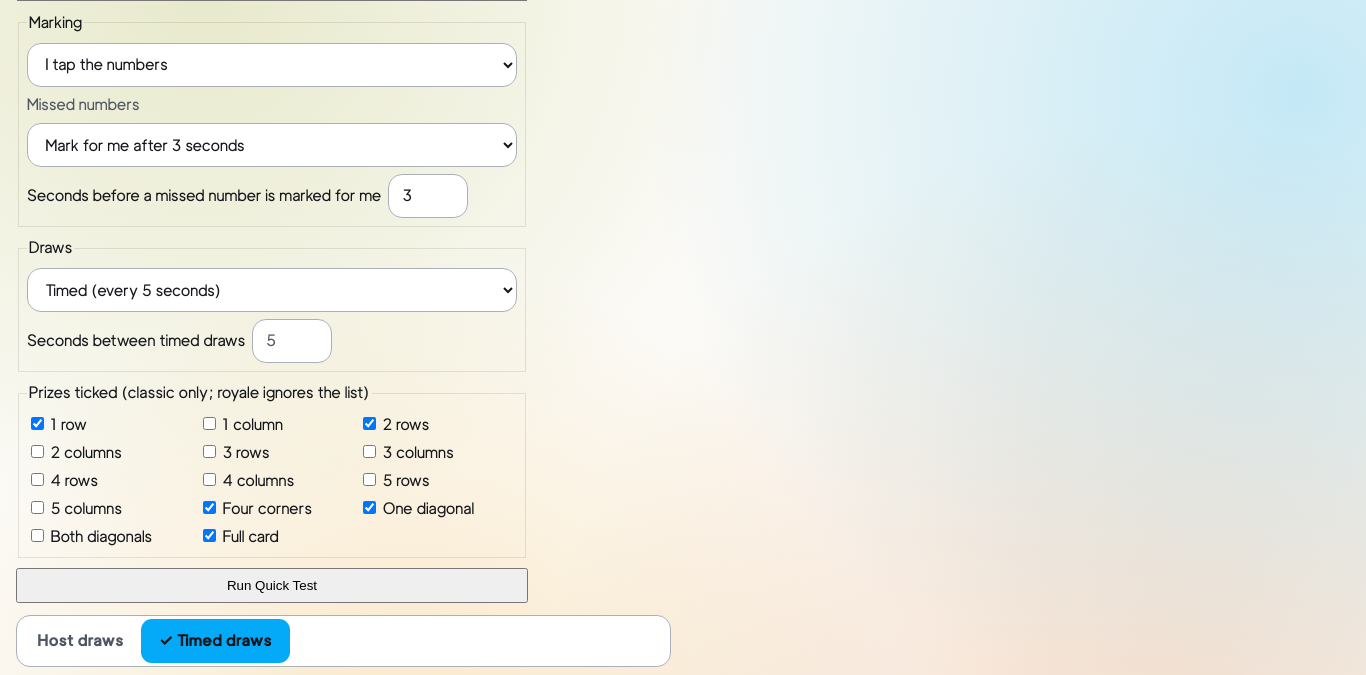
Scenario: a new run › shows the next run's first cut screen after the last run's was closed
(page scrolled)
Click the button with test id "start-run" at (272, 585), box [16,568,528,603]
Wait 2500 ms
(page scrolled)
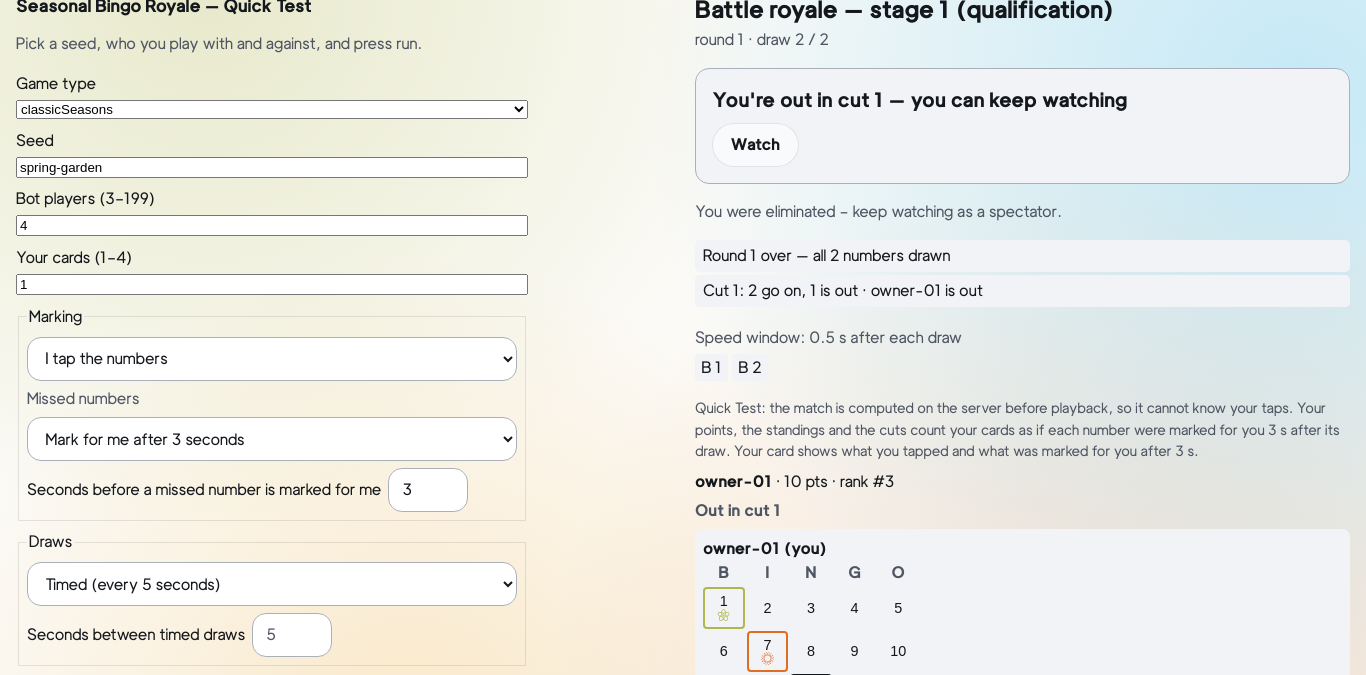
Click the button "Watch" at (755, 145), box [712,123,799,167]
(page scrolled)
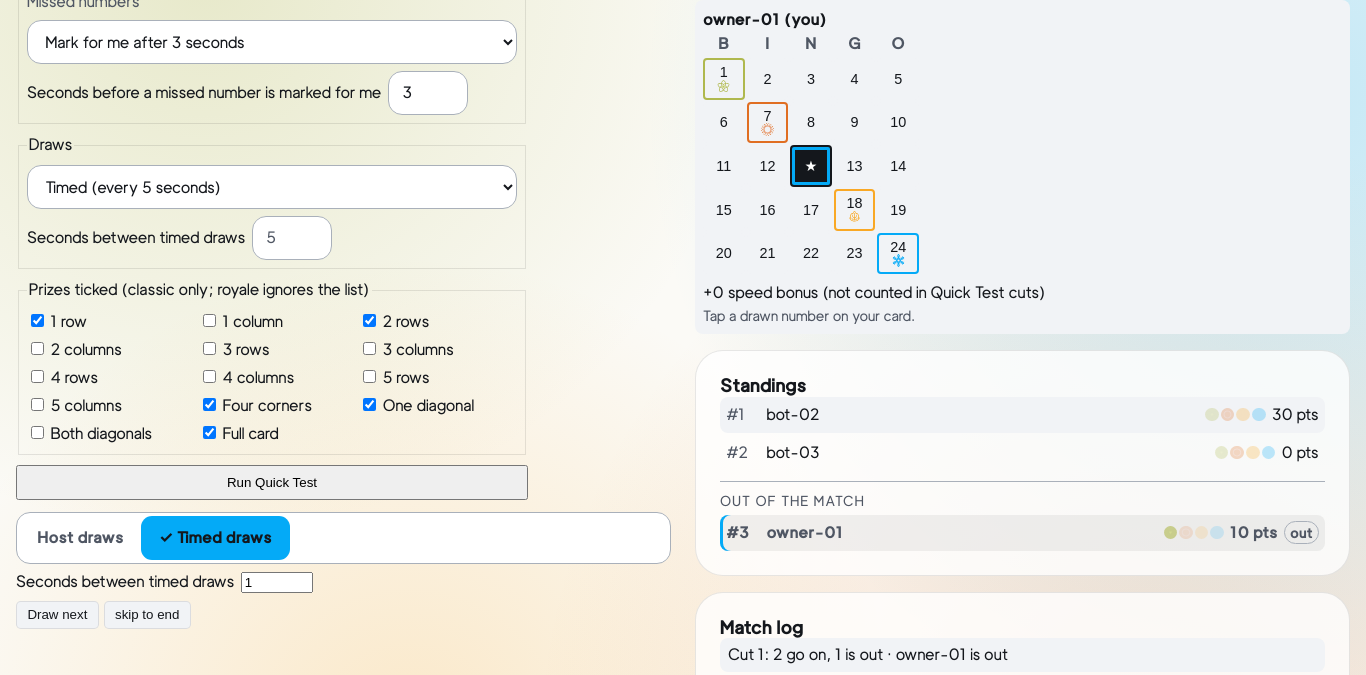
Now the message with test id "cut-screen" is gone
Click the button with test id "start-run" at (272, 482), box [16,465,528,500]
Wait 2500 ms
(page scrolled)
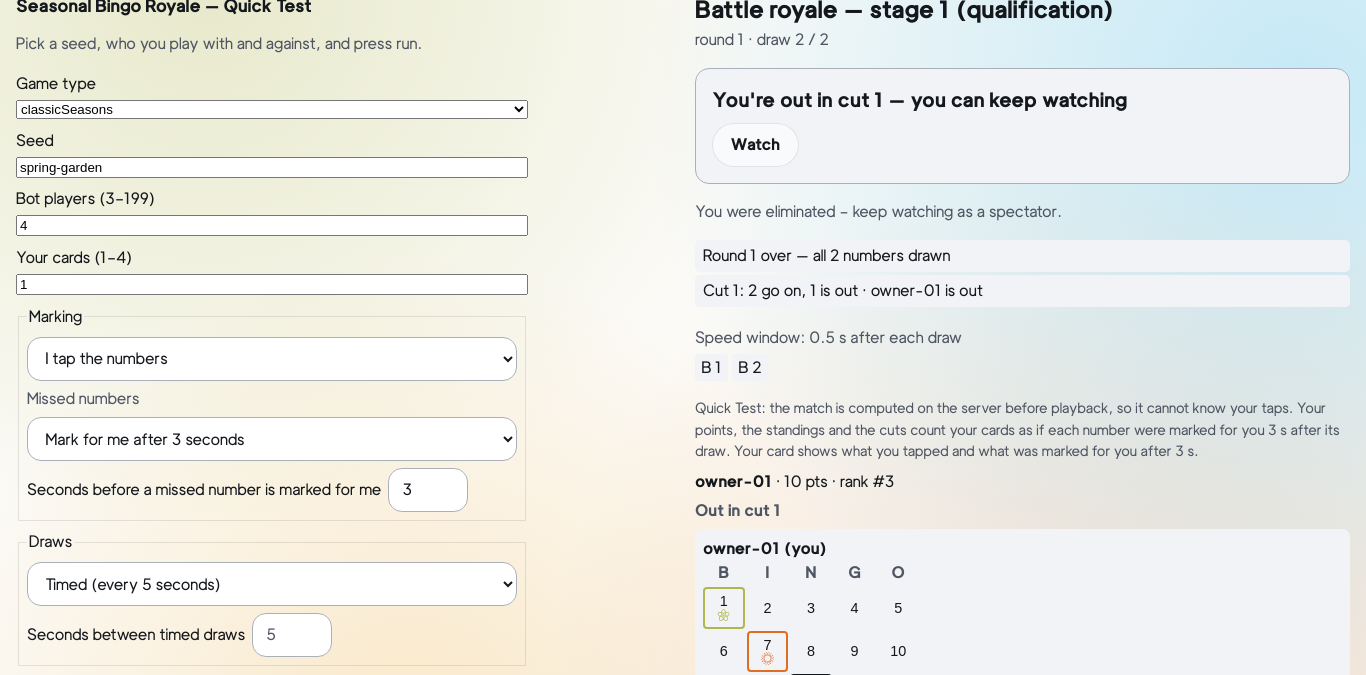
Now the message "You're out in cut 1 — you can keep watching Watch" is shown, box [695,68,1350,184]
